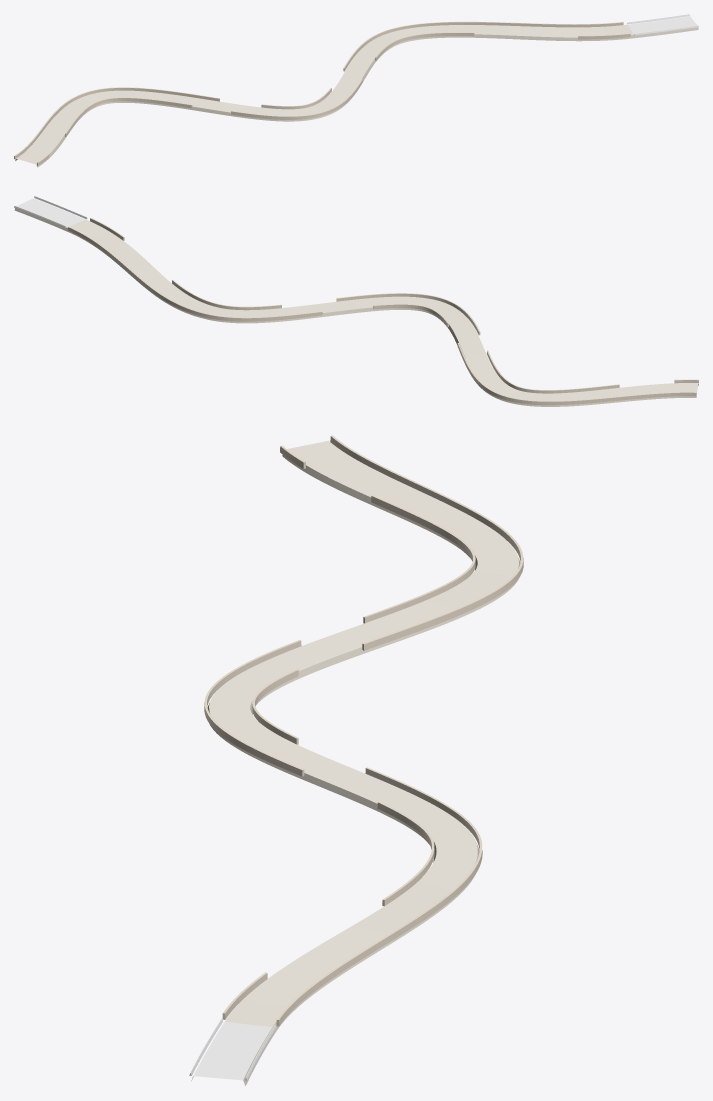
The model's file is SM_RiyadhNights_Track_09.fbx.
The picture shows the model from 3 angles, top to bottom: view 1: azimuth 30°, elevation 25°; view 2: azimuth 150°, elevation 25°; view 3: azimuth 270°, elevation 25°; orthographic projection. The views are drawn at different scales.
Visible parts, largest first — view 1: SM_RiyadhNights_Track_09; view 2: SM_RiyadhNights_Track_09; view 3: SM_RiyadhNights_Track_09.
Boxes of the visible parts, x1,y1,x2,y2 form: SM_RiyadhNights_Track_09: (14,14,698,167); SM_RiyadhNights_Track_09: (14,196,698,406); SM_RiyadhNights_Track_09: (189,435,523,1085).
Size of the model in its own units: 36565 by 365 by 8093.
